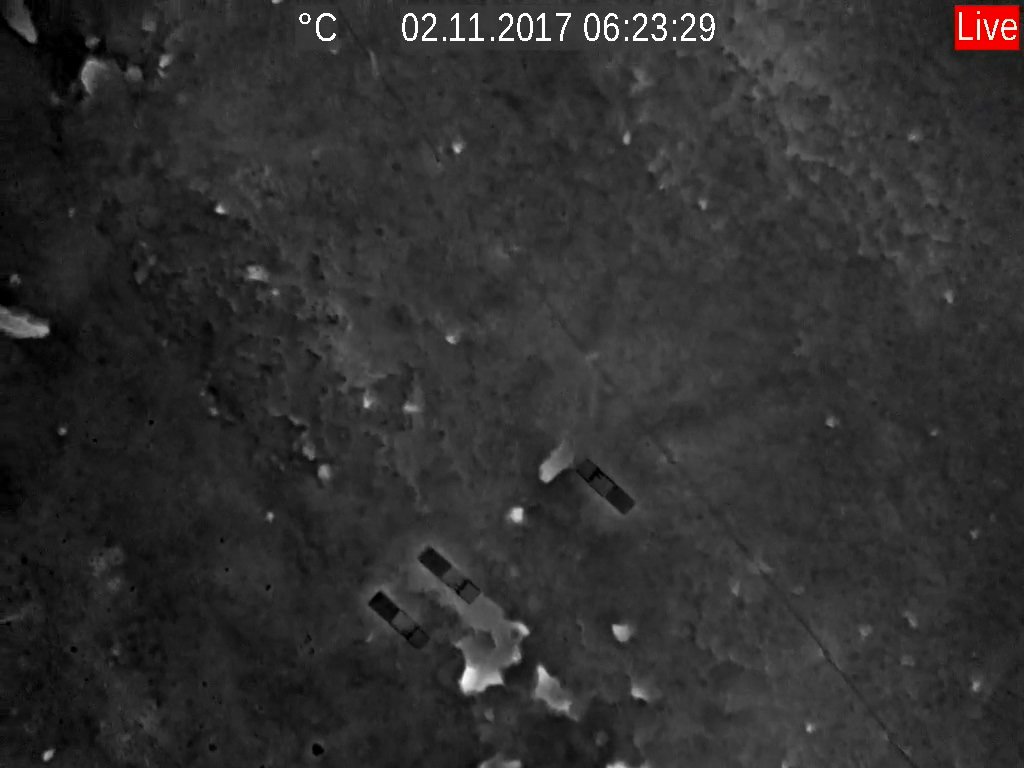warren: (443, 613, 529, 695), (533, 651, 576, 721), (2, 299, 54, 352), (533, 436, 577, 488), (607, 608, 639, 650), (627, 669, 657, 708), (504, 498, 535, 527), (398, 397, 425, 422), (358, 385, 380, 415), (618, 124, 639, 153), (38, 743, 61, 764)
